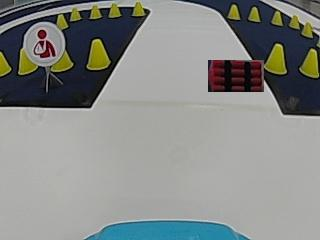cone: (86, 38, 110, 71), (264, 43, 286, 74), (300, 49, 318, 78), (17, 48, 37, 74), (51, 49, 73, 71), (0, 49, 11, 75), (131, 1, 145, 17), (227, 4, 241, 20), (301, 21, 313, 38), (248, 6, 261, 21), (108, 3, 121, 17), (56, 14, 69, 28), (89, 4, 101, 19), (271, 11, 283, 25), (70, 7, 81, 20), (289, 14, 299, 28)
patient: (25, 23, 63, 64)
